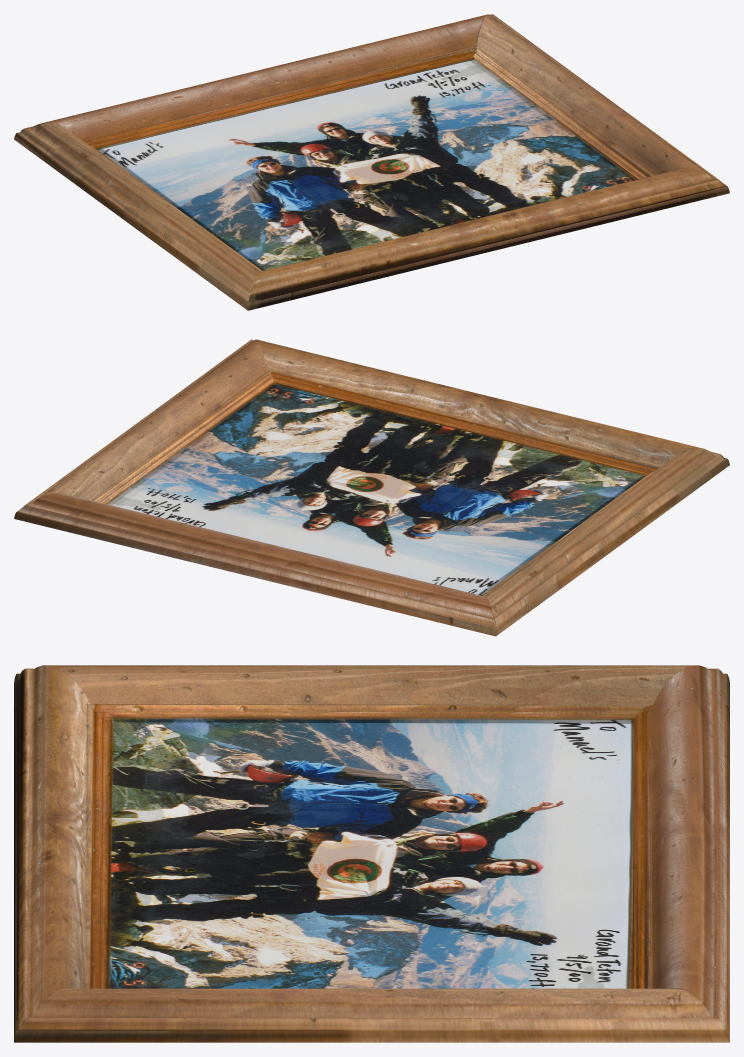
The model's file is frame.obj.
3 renders of one model, top to bottom at view 1: azimuth 30°, elevation 25°; view 2: azimuth 150°, elevation 25°; view 3: azimuth 270°, elevation 25°, orthographic. The views are drawn at different scales.
Visible parts, largest first — view 1: Plane_Plane.002; view 2: Plane_Plane.002; view 3: Plane_Plane.002.
Boxes of the visible parts, bbox=[...] form: Plane_Plane.002: bbox=[14, 14, 729, 310]; Plane_Plane.002: bbox=[14, 339, 729, 636]; Plane_Plane.002: bbox=[14, 665, 729, 1042].
Bounding box in the file's own units: 10 × 0.4241 × 8.41.
Materials: 2 (2 with a texture image).
